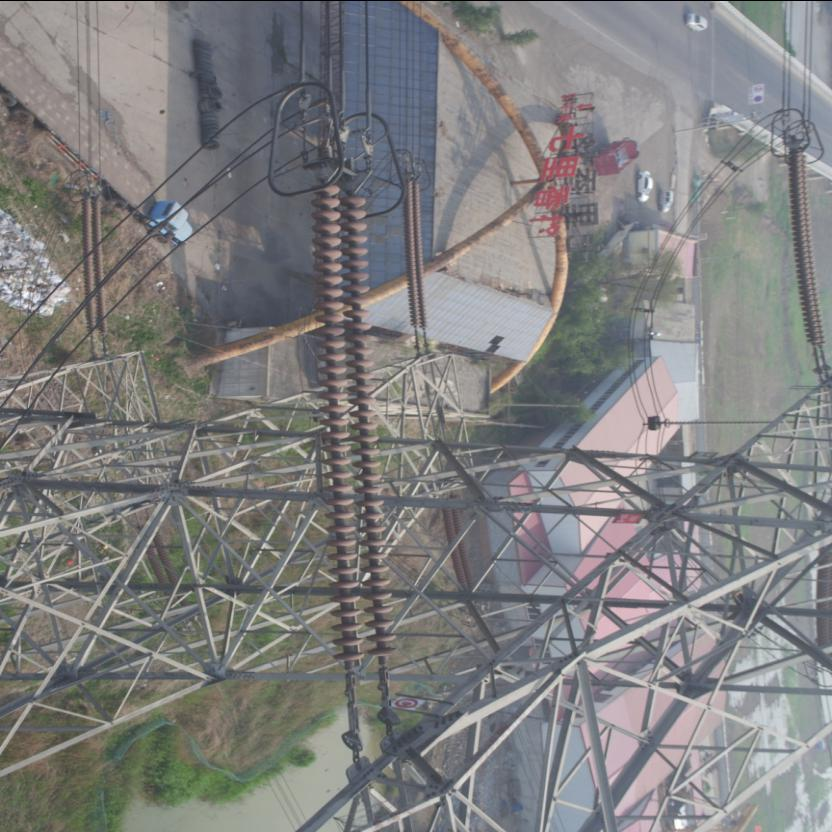insulator: (312, 175, 400, 695), (787, 151, 831, 344), (406, 174, 432, 340), (80, 196, 109, 338)
